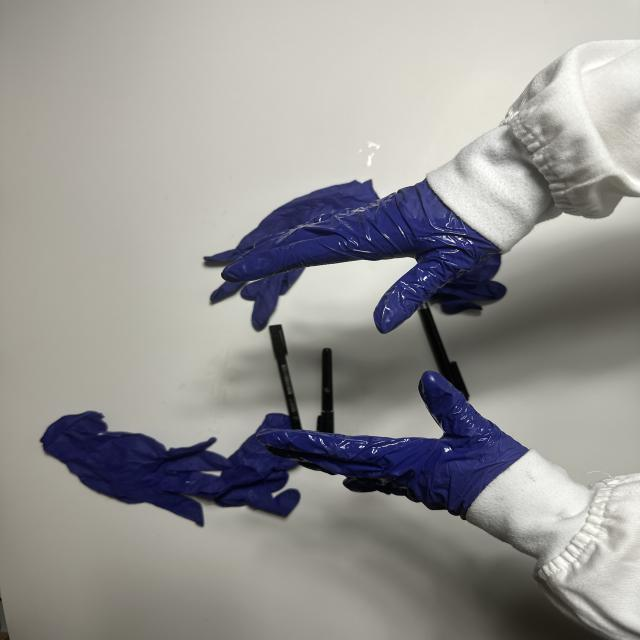gloves_contaminated: (223, 180, 500, 334), (267, 372, 525, 518)
